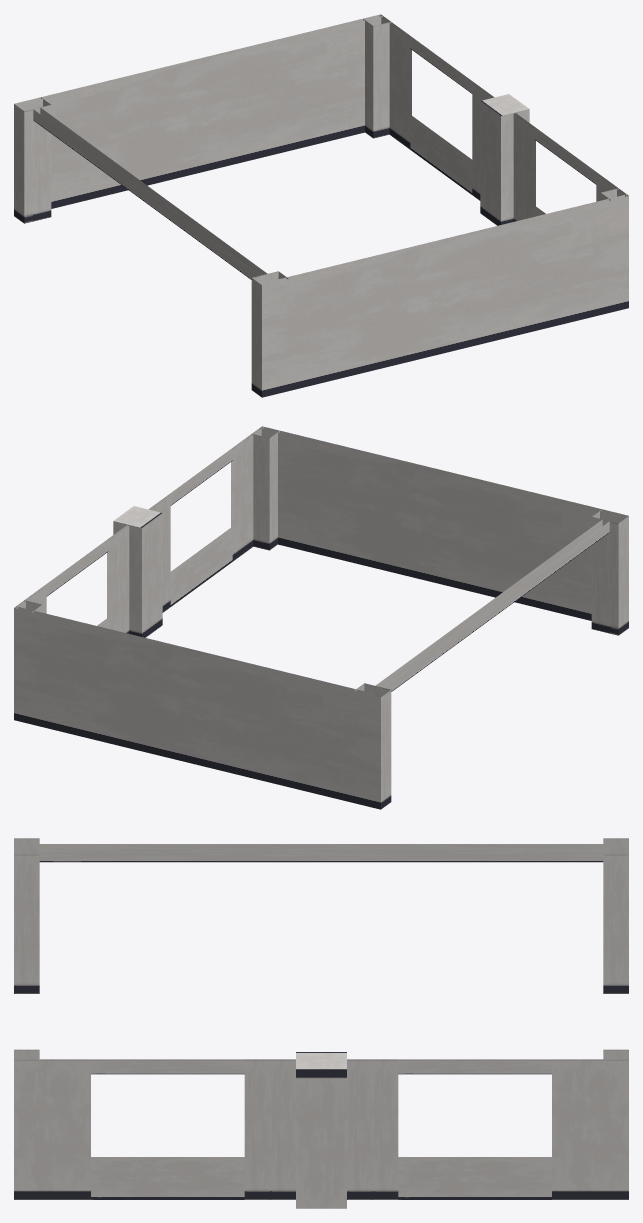
File: M_Classroom.fbx
3 renders of one model, top to bottom at view 1: azimuth 30°, elevation 25°; view 2: azimuth 150°, elevation 25°; view 3: azimuth 270°, elevation 25°, orthographic. The views are drawn at different scales.
Visible parts, largest first — view 1: NewClass; view 2: NewClass; view 3: NewClass.
Boxes of the visible parts, x1,y1,x2,y2 form: NewClass: [14, 14, 628, 397]; NewClass: [14, 426, 628, 809]; NewClass: [14, 838, 628, 1208].
Bounding box in the file's own units: 1065 × 300 × 1200.
